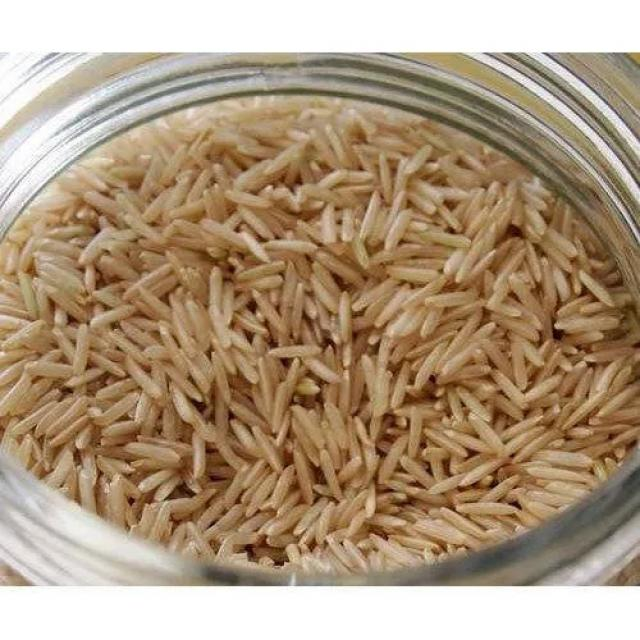Rice: (0, 90, 640, 588)
